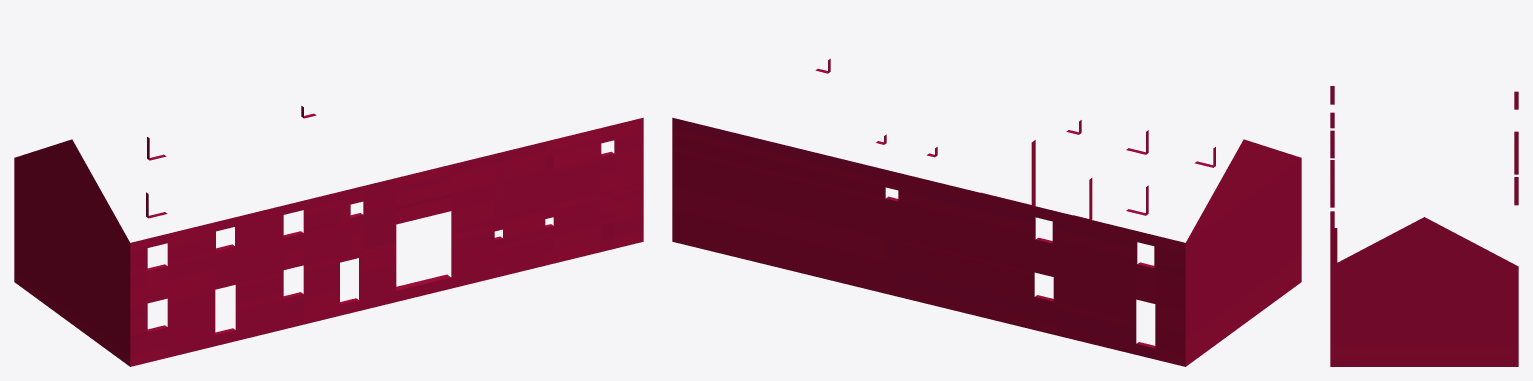
File: SM_Bld_170_Masonry.glb
3 views of the same model, side by side, from view 1: azimuth 30°, elevation 25°; view 2: azimuth 150°, elevation 25°; view 3: azimuth 270°, elevation 25° (orthographic). The views are drawn at different scales.
Visible parts, largest first — view 1: SM_Bld_170_Masonry; view 2: SM_Bld_170_Masonry; view 3: SM_Bld_170_Masonry.
Boxes of the visible parts, x1,y1,x2,y2 form: SM_Bld_170_Masonry: (14,106,643,366); SM_Bld_170_Masonry: (672,58,1301,366); SM_Bld_170_Masonry: (1330,86,1518,366).
Size of the model in its own units: 24.25 by 8.36 by 9.5.
